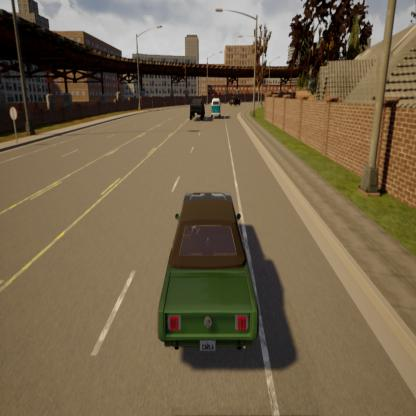Cars: (149, 186, 262, 364), (188, 96, 207, 122), (209, 98, 223, 120), (227, 92, 243, 110)
